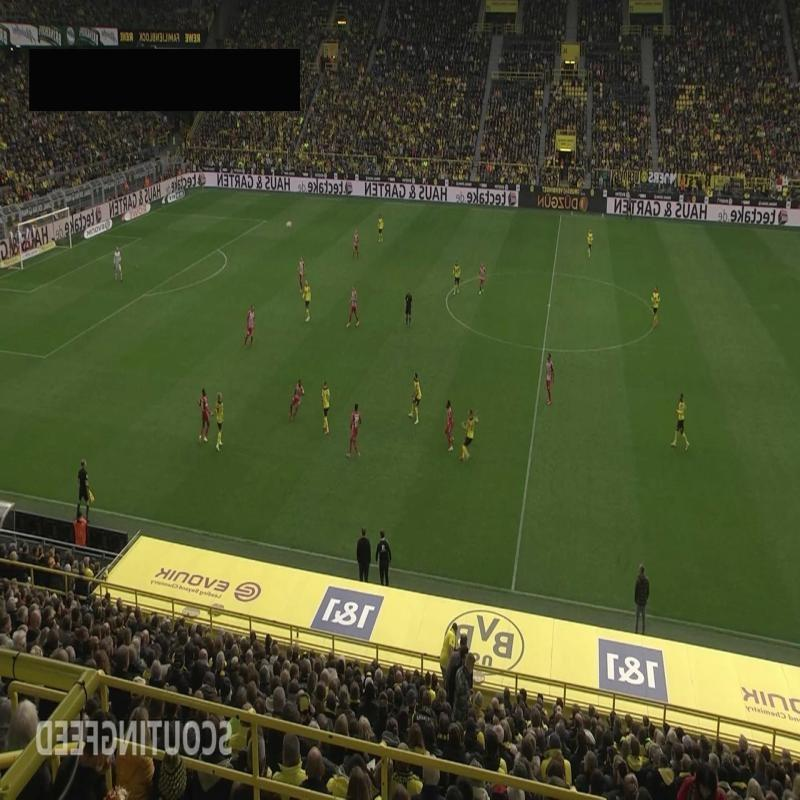1: (195, 185, 209, 199)
10: (211, 242, 225, 256)
11: (138, 288, 152, 301)
12: (38, 352, 52, 366)
13: (554, 210, 568, 224)
14: (547, 265, 561, 279)
15: (536, 342, 550, 356)
16: (506, 581, 520, 600)
2: (145, 206, 160, 219)
3: (94, 228, 108, 242)
7: (132, 231, 146, 244)
8: (21, 286, 36, 300)
9: (258, 212, 272, 226)
c: (648, 314, 662, 328), (440, 288, 454, 302)
